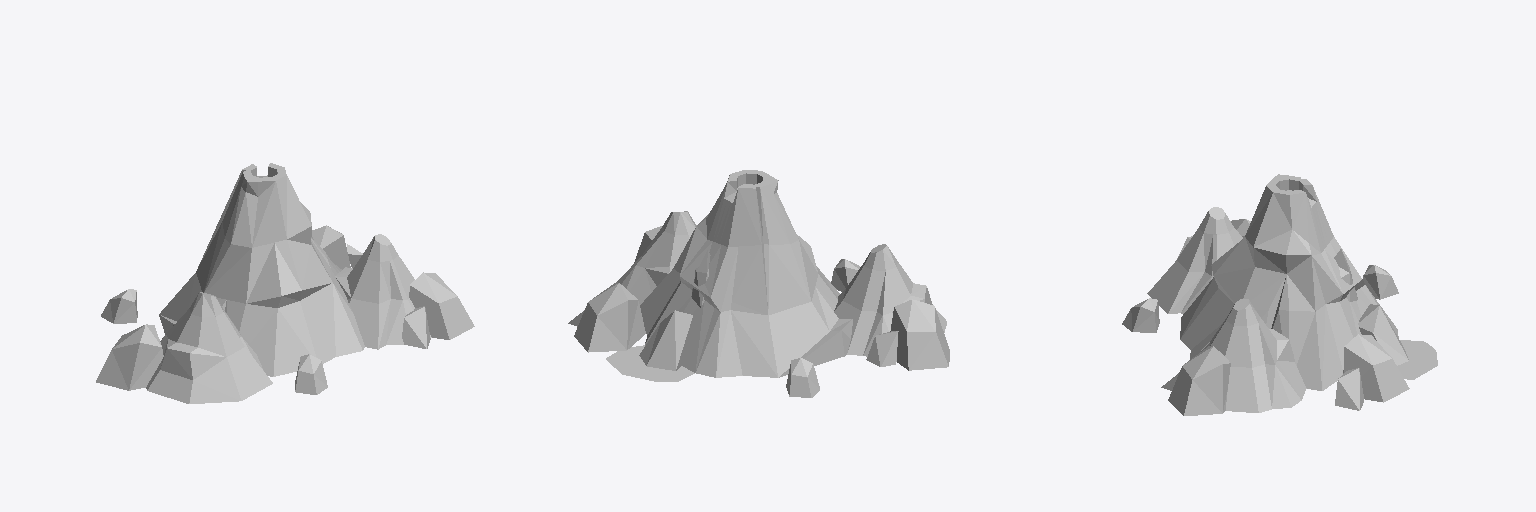
File: volcano.obj
The picture shows the model from 3 angles: view 1: azimuth 30°, elevation 25°; view 2: azimuth 150°, elevation 25°; view 3: azimuth 270°, elevation 25°; orthographic projection.
Parts seen in each view (by area): view 1: volcano; view 2: volcano; view 3: volcano.
Boxes of the visible parts, x1,y1,x2,y2 form: volcano: [96, 163, 474, 403]; volcano: [568, 170, 949, 397]; volcano: [1122, 174, 1437, 415].
Size of the model in its own units: 200 by 86.37 by 161.